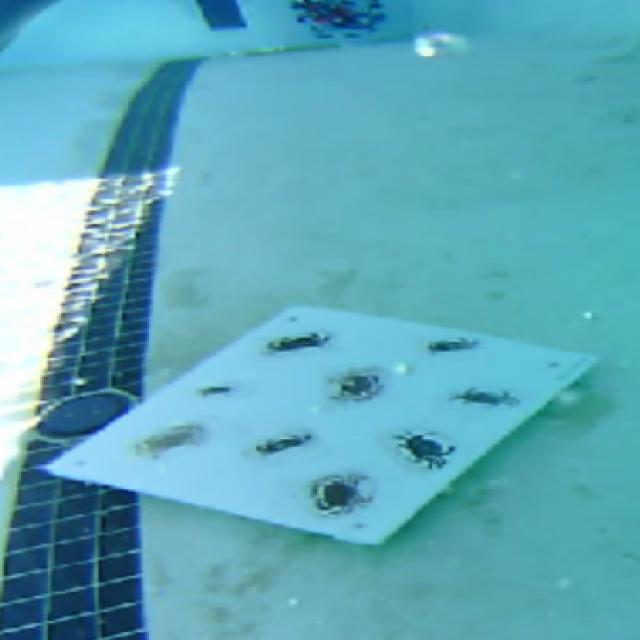green_crab: (397, 433, 453, 467), (451, 388, 518, 403), (201, 388, 231, 394)
jonah_crab: (311, 473, 371, 514), (136, 424, 204, 456), (329, 369, 384, 400)
rock_crab: (266, 332, 329, 352), (256, 434, 311, 453), (430, 338, 476, 352)
